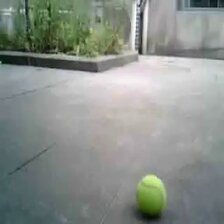tennis: (137, 176, 167, 213)
